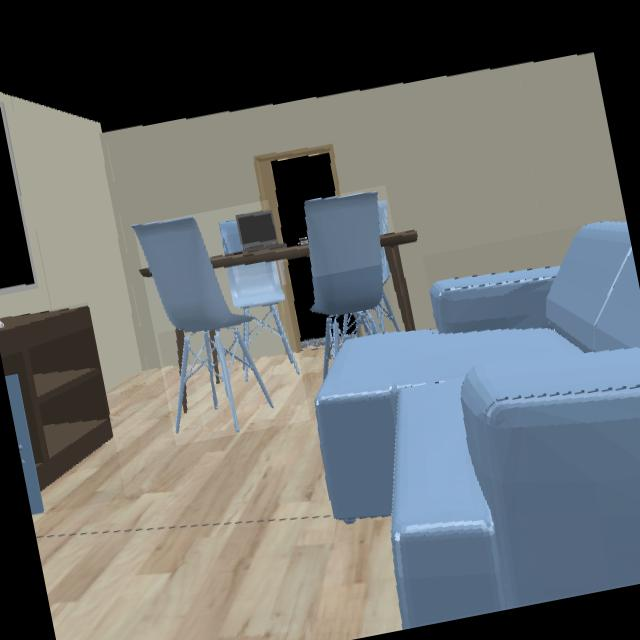cabinet: (0, 308, 114, 516)
chair: (134, 217, 302, 435), (305, 191, 399, 380), (219, 221, 246, 256)
laptop: (237, 212, 286, 253)
monitor: (0, 104, 39, 297)
sofa: (315, 222, 640, 629)
table: (381, 232, 418, 331), (211, 237, 310, 270), (207, 332, 228, 388), (176, 330, 187, 432), (140, 267, 152, 276)
